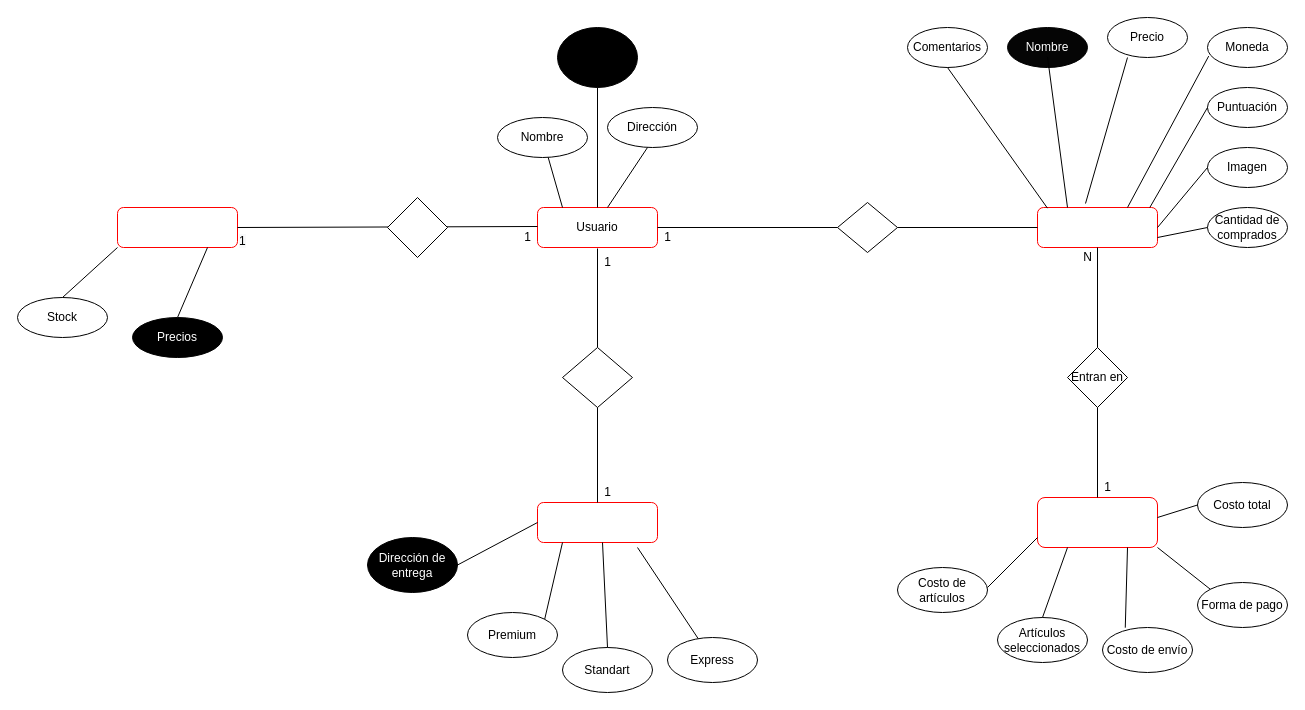
Some shapes in this 1305 by 710 pixel diagram are drawn without their labels. The shapes that lost their labels are listed below. From the top down, each one's centre as x and y in pixels, then its label:
At point (597, 57): "Email".
At point (177, 227): "Vendedor".
At point (417, 227): "Consulta".
At point (867, 227): "Compra".
At point (1097, 227): "Artículos".
At point (597, 377): "Selecciona".
At point (597, 522): "Método de envío".
At point (1097, 522): "Carrito de compras".
